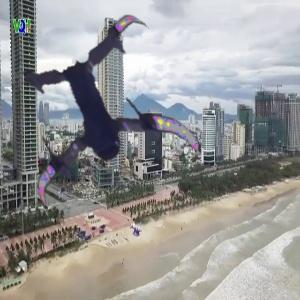drone: (6, 31, 199, 224)
